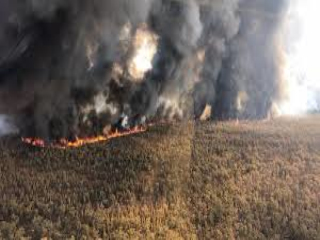fire: (17, 131, 155, 146)
smoke: (156, 8, 306, 125), (20, 14, 101, 148)
